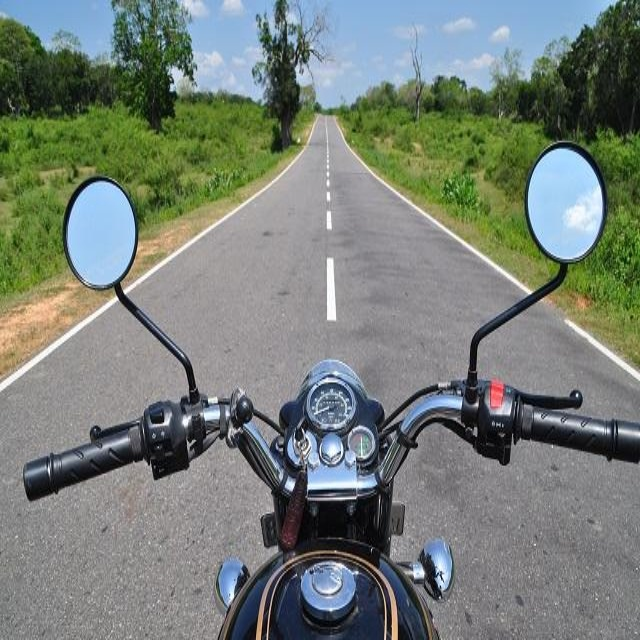Motorcycle: (23, 139, 640, 640)
